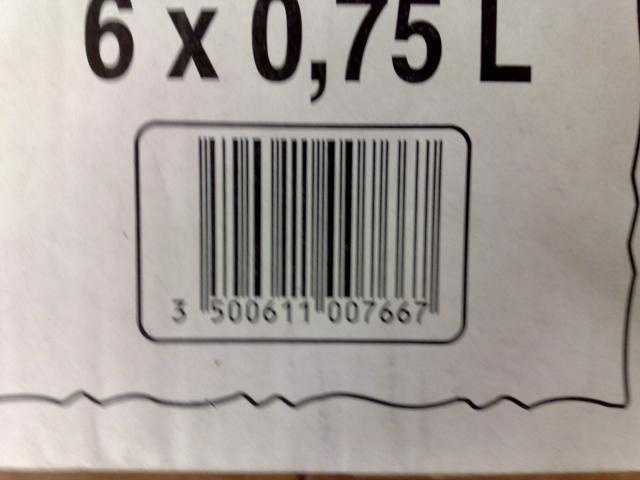Barkod: (194, 134, 442, 298)
